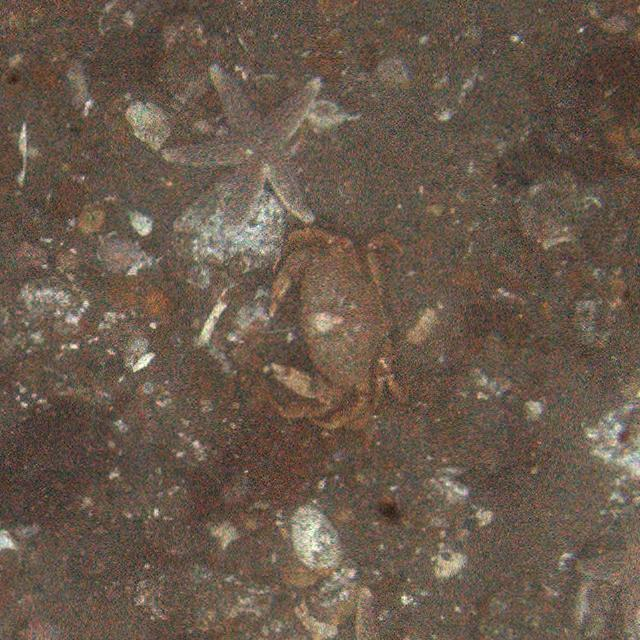crab: (266, 212, 405, 426)
